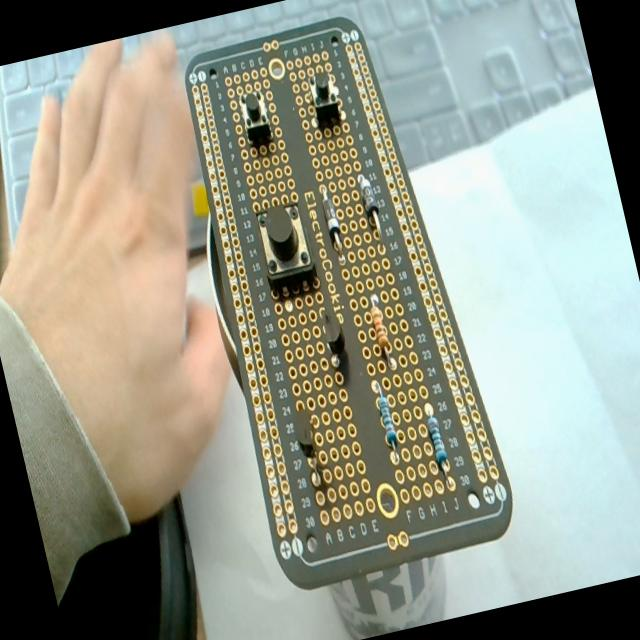diode: (355, 170, 388, 248), (318, 182, 346, 253)
resistor: (366, 292, 398, 372), (371, 378, 401, 456), (424, 409, 449, 469)
switch: (252, 199, 318, 293), (306, 69, 344, 127), (237, 88, 274, 144)
transistor: (289, 404, 328, 486), (316, 306, 352, 370)
